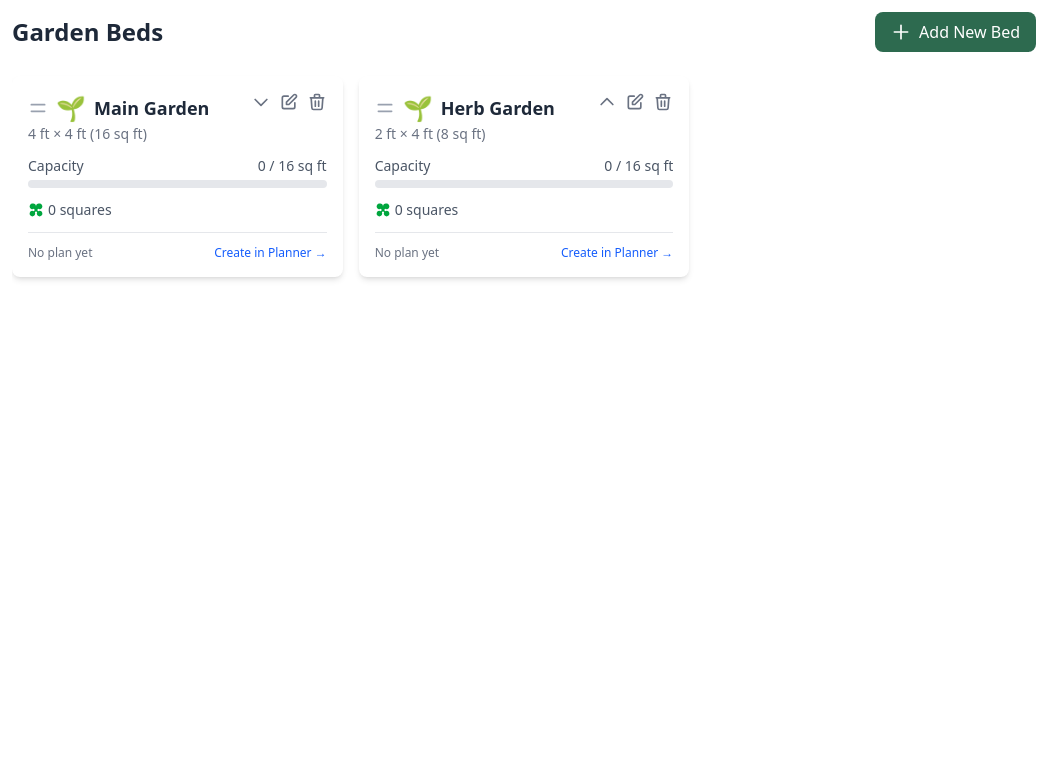
BedManager › deleting beds › clears error when editing bed
This screenshot has width=1048, height=780.
Click the button named "Delete Main Garden" at (317, 102), box [307,92,327,112]
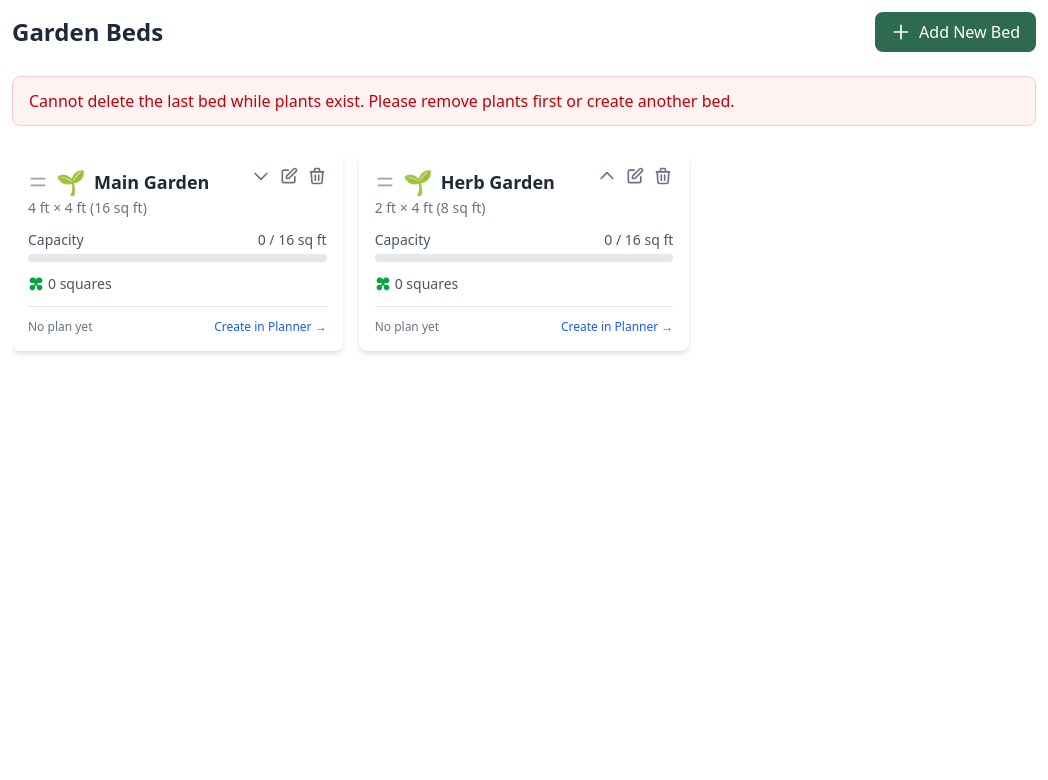
Now the text "Cannot delete the last bed" is shown, box [29,90,735,112]
Click the button named "Edit Herb Garden" at (635, 176), box [625,166,645,186]
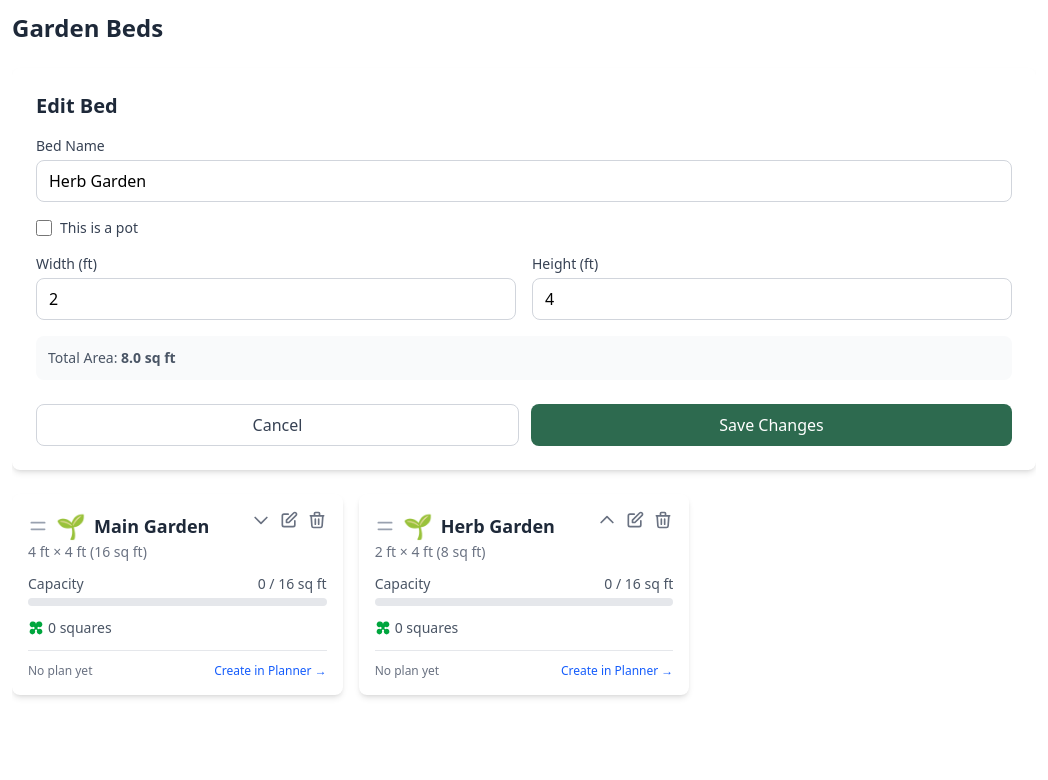
Now the text "Cannot delete the last bed" is gone
